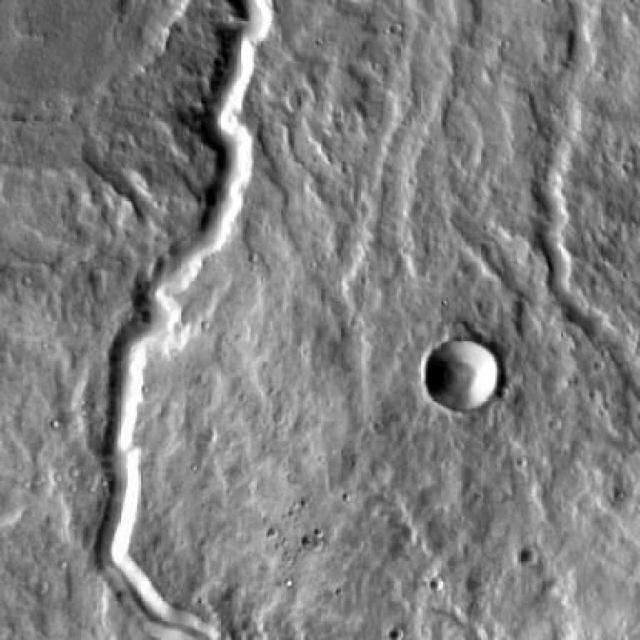crater: (421, 338, 496, 413), (516, 545, 535, 563)
